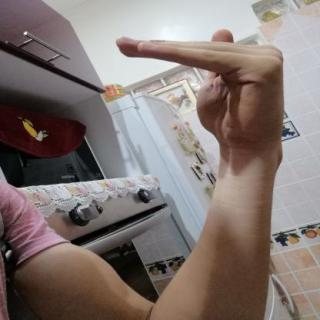KHAA: (96, 19, 296, 161)
